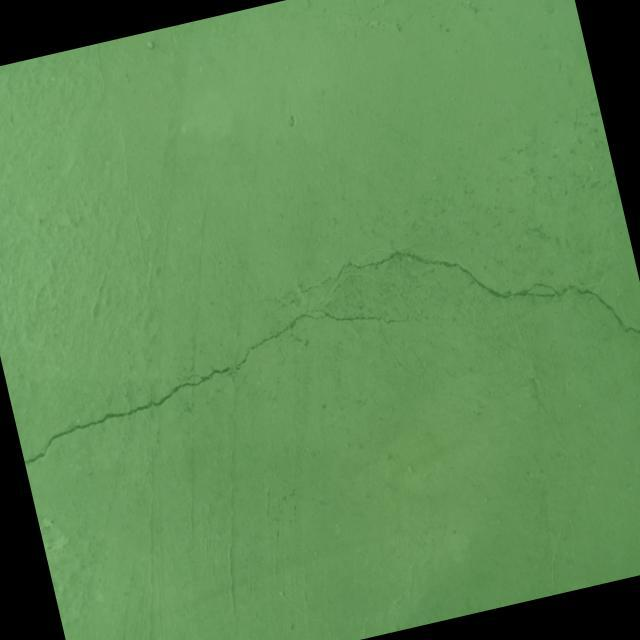crack: (250, 197, 640, 424), (5, 280, 452, 467)
